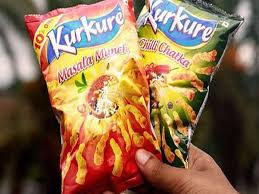kurkure: (47, 2, 120, 63), (143, 1, 217, 46)
plastic: (21, 3, 246, 141)
